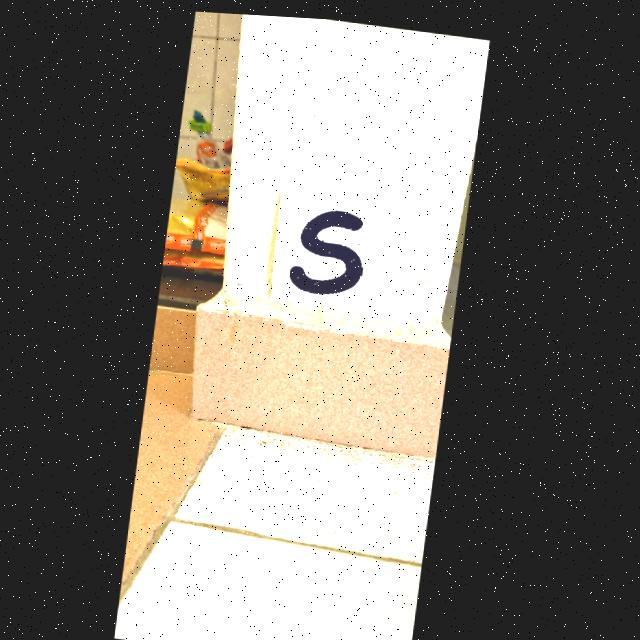S: (292, 206, 365, 290)
